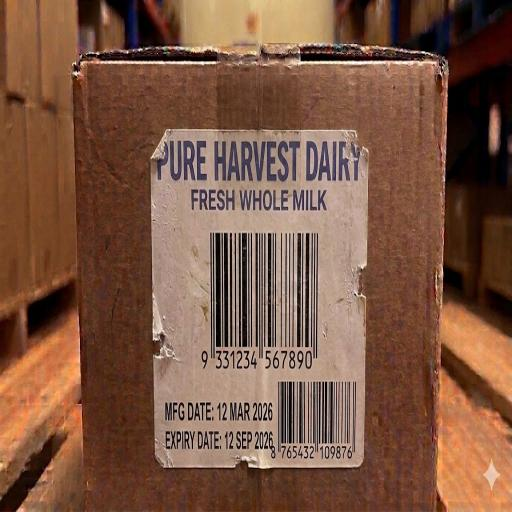damaged_labelrotation: (155, 138, 364, 462)
labelrotation: (154, 134, 367, 466)
